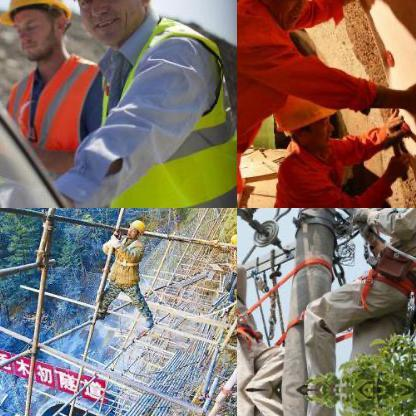Helmet: (51, 0, 156, 52), (0, 0, 79, 64), (270, 94, 338, 152), (240, 0, 327, 26), (124, 217, 146, 239), (228, 232, 236, 251)
